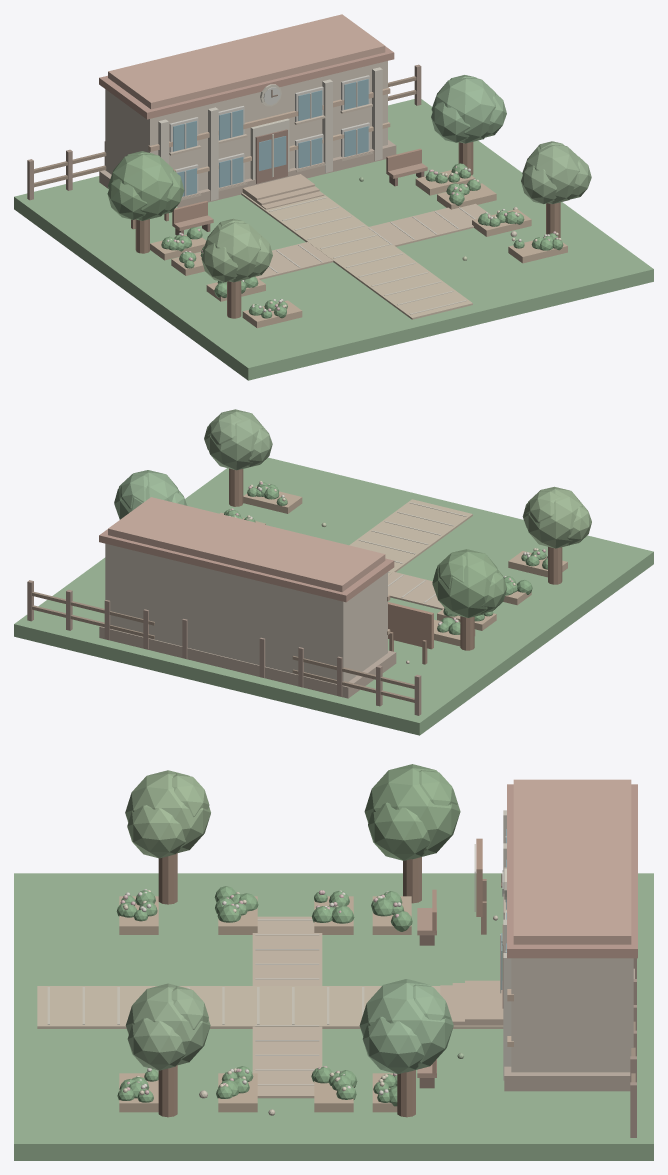
File: school_campus_v2.glb
3 renders of one model, top to bottom at view 1: azimuth 30°, elevation 25°; view 2: azimuth 150°, elevation 25°; view 3: azimuth 270°, elevation 25°, orthographic. The views are drawn at different scales.
Parts seen in each view (by area): view 1: MeadowGround, SchoolRoof, SchoolFirstFloor, MainStoneWalk, RoofBorder, TreeCrown0-0, Sidewalk4.3, TreeCrown1-0, SchoolBase, TreeCrown2-0, TreeCrown3-0, Sidewalk-4.3 (+27 smaller); view 2: MeadowGround, SchoolFirstFloor, SchoolRoof, MainStoneWalk, SchoolBase, RoofBorder, TreeCrown0-0, TreeCrown2-0, TreeCrown3-0, CampusInfoBoard, Sidewalk-4.3, TreeCrown1-0 (+16 smaller); view 3: MeadowGround, SchoolRoof, SchoolFirstFloor, MainStoneWalk, Sidewalk4.3, Sidewalk-4.3, RoofBorder, TreeCrown0-0, TreeCrown1-0, TreeCrown2-0, SchoolBase, TreeCrown0-1 (+22 smaller).
Part boxes in pixels (x1,y1,x2,y2): MeadowGround: (14,99,653,380); SchoolRoof: (108,14,385,109); SchoolFirstFloor: (105,61,387,190); MainStoneWalk: (241,191,472,319); RoofBorder: (99,46,394,119); TreeCrown0-0: (108,154,173,220); Sidewalk4.3: (369,203,490,246); TreeCrown1-0: (431,78,495,143); SchoolBase: (99,140,396,207); TreeCrown2-0: (202,222,261,282); TreeCrown3-0: (522,145,579,204); Sidewalk-4.3: (256,242,333,279); MeadowGround: (14,457,653,735); SchoolFirstFloor: (105,543,387,683); SchoolRoof: (108,497,385,591); MainStoneWalk: (349,499,472,575); SchoolBase: (99,626,396,698); RoofBorder: (99,529,394,602); TreeCrown0-0: (432,549,498,617); TreeCrown2-0: (523,486,582,548); TreeCrown3-0: (205,409,262,470); CampusInfoBoard: (388,602,433,649); Sidewalk-4.3: (388,572,444,609); TreeCrown1-0: (114,470,178,519); MeadowGround: (14,873,653,1160); SchoolRoof: (513,779,631,944); SchoolFirstFloor: (511,958,633,1072); MainStoneWalk: (37,986,503,1028); Sidewalk4.3: (252,1026,322,1098); Sidewalk-4.3: (252,916,322,985); RoofBorder: (507,784,637,958); TreeCrown0-0: (364,764,460,859); TreeCrown1-0: (359,979,453,1072); TreeCrown2-0: (125,770,210,853); SchoolBase: (504,968,634,1091); TreeCrown0-1: (368,802,430,860).
Bounding box in the file's own units: 22 × 6.37 × 22.
